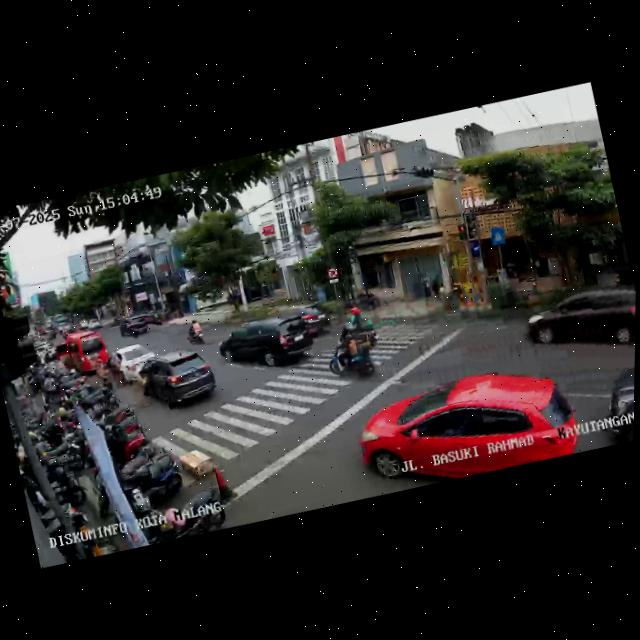car: (350, 353, 584, 499), (522, 275, 636, 366), (215, 306, 318, 383), (132, 345, 221, 419), (592, 352, 635, 445), (53, 326, 112, 380), (102, 339, 162, 390), (271, 299, 333, 346), (117, 310, 153, 341)
motorcycle: (323, 316, 386, 385), (332, 303, 384, 355), (184, 315, 208, 347)
